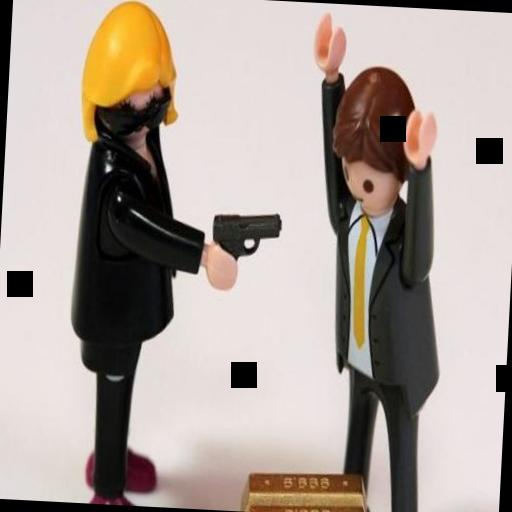Handgun: (207, 204, 283, 296)
